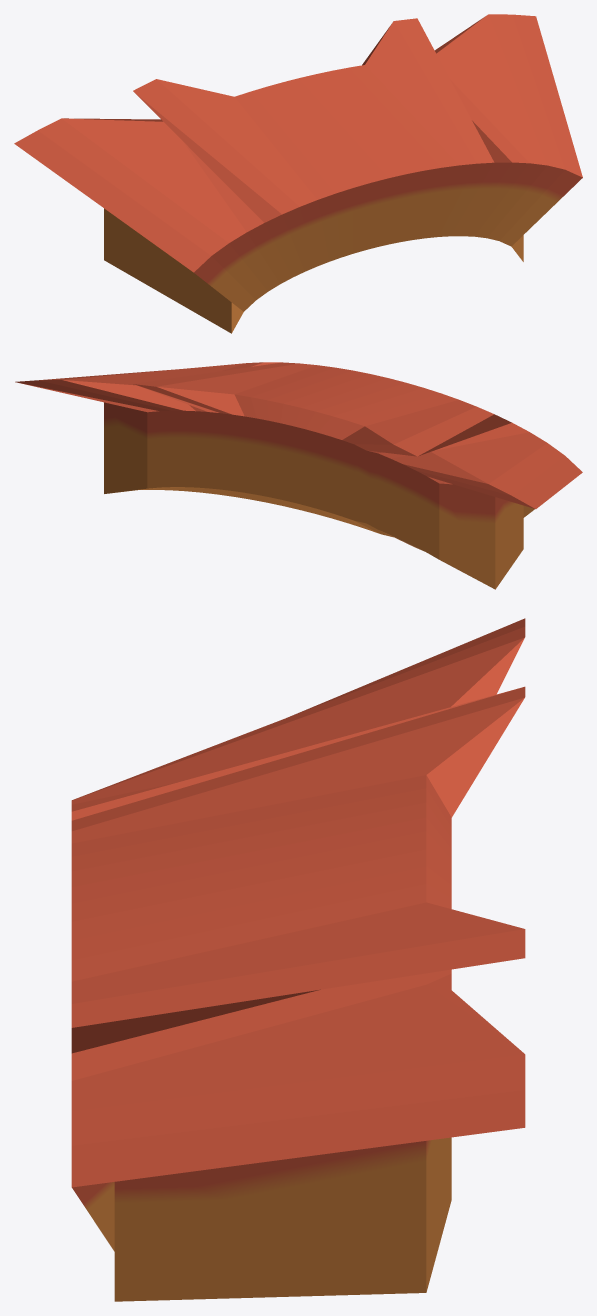
3 views of the same model, one above another, from view 1: azimuth 30°, elevation 25°; view 2: azimuth 150°, elevation 25°; view 3: azimuth 270°, elevation 25° (orthographic). The views are drawn at different scales.
Visible parts, largest first — view 1: Paddle; view 2: Paddle; view 3: Paddle.
Boxes of the visible parts, <box> form: Paddle: <box>14,14,582,333</box>; Paddle: <box>15,362,582,589</box>; Paddle: <box>71,618,525,1301</box>.
Size of the model in its own units: 7.15 by 2.27 by 2.69.
